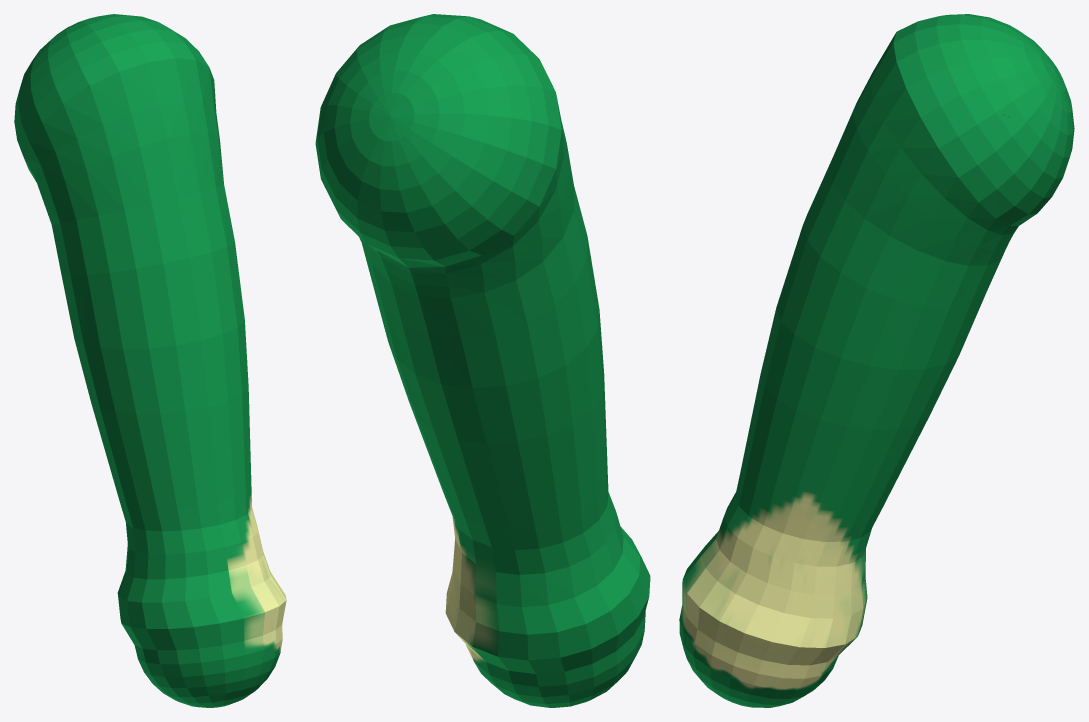
Rendered from Peridot pierna izquierda.obj.
3 views of the same model, side by side, from view 1: azimuth 30°, elevation 25°; view 2: azimuth 150°, elevation 25°; view 3: azimuth 270°, elevation 25° (orthographic). The views are drawn at different scales.
Visible parts, largest first — view 1: Pierna_izquierda; view 2: Pierna_izquierda; view 3: Pierna_izquierda.
Boxes of the visible parts, x1=… form: Pierna_izquierda: x1=14, y1=14, x2=286, y2=707; Pierna_izquierda: x1=315, y1=14, x2=650, y2=707; Pierna_izquierda: x1=679, y1=14, x2=1074, y2=707.
Size of the model in its own units: 1.1 by 3.54 by 1.88.
